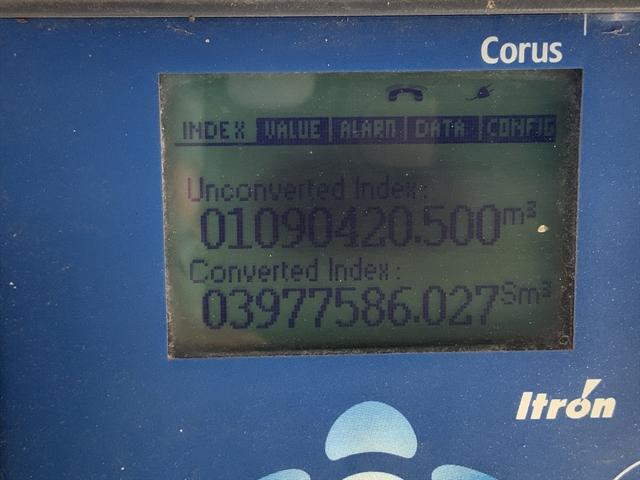digital_screen: (160, 69, 587, 357)
